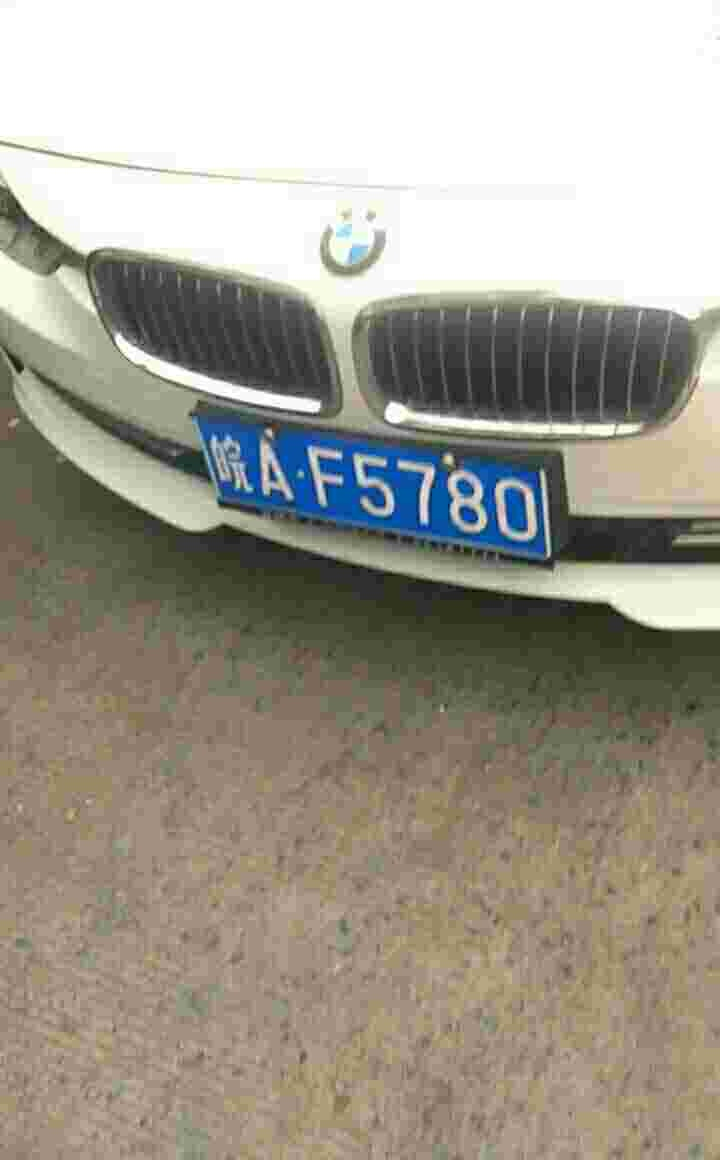car_blue: (186, 406, 561, 575)
